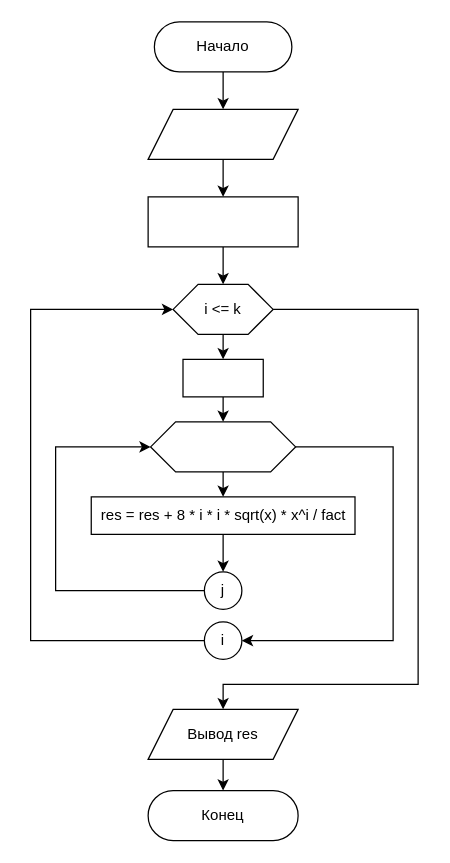
Some shapes in this 450 by 863 pixel diagram are drawn without their labels. The box of each missing label's shape, as (x1, y1, x2, y2) in pixels:
fact = 1: (182, 358, 263, 397)
i = 1 res = 0: (147, 196, 298, 247)
j <= (2 * i + 1): (149, 421, 296, 472)
Ввод k, x: (147, 108, 298, 159)
